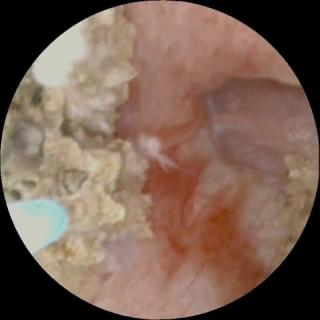fiber: (10, 200, 64, 252)
stone: (4, 10, 152, 294), (279, 155, 316, 253)
tissue: (98, 4, 316, 312)
